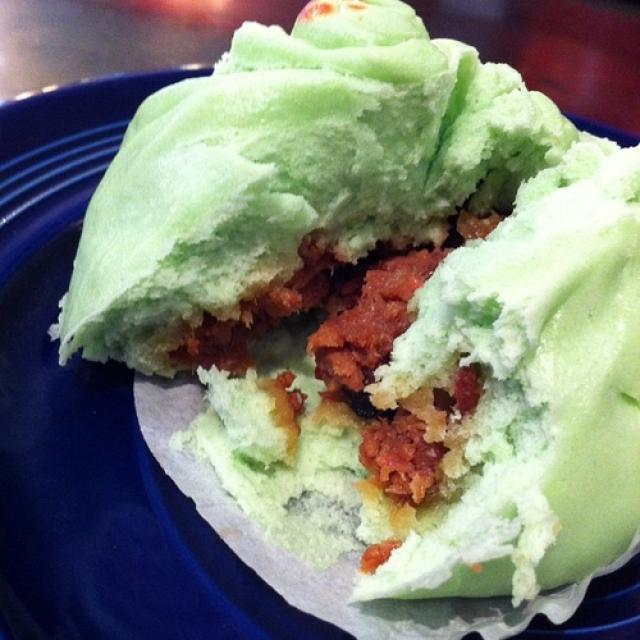带馅早点: (37, 8, 635, 628)
